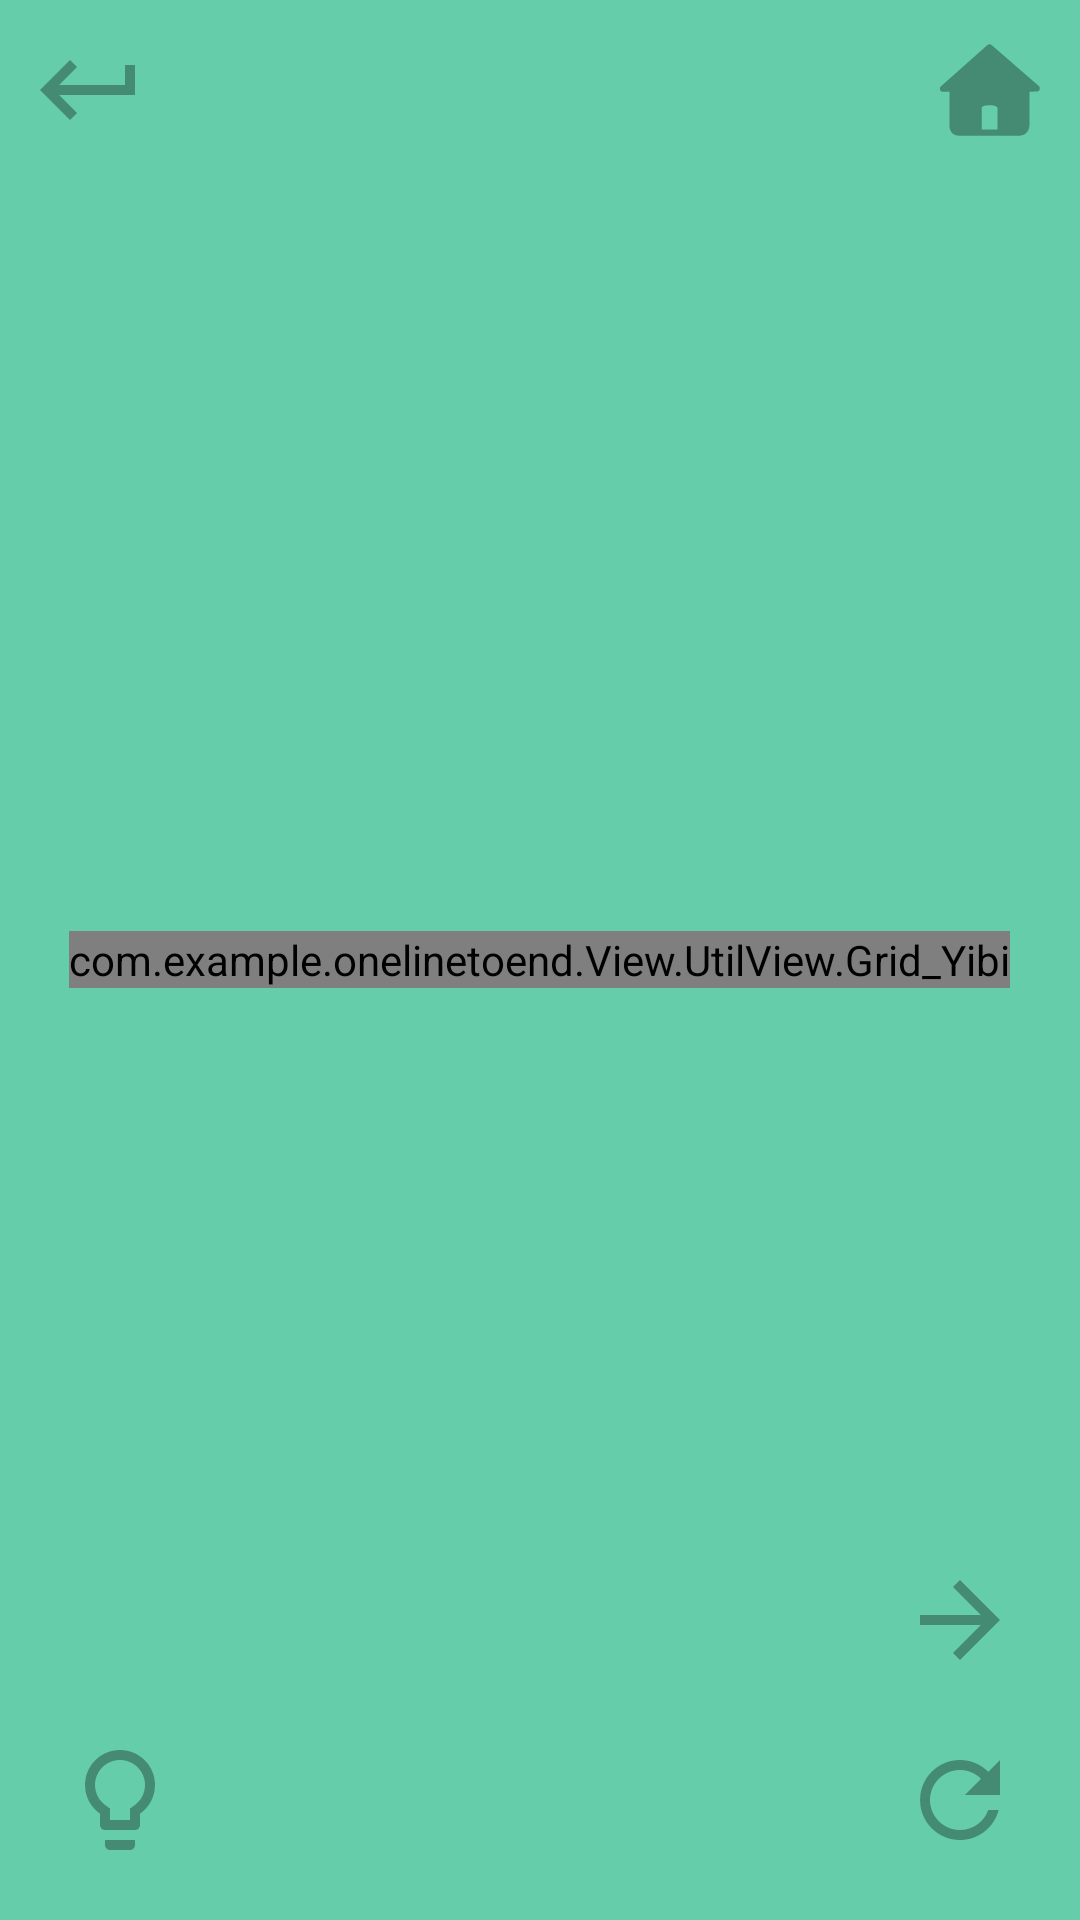

Locate icon controls on the screen. Image size 1080px×1920px, boxes as (x1, y1, x2, y2).
help: (85, 1750, 155, 1850)
home: (940, 44, 1040, 136)
refresh: (920, 1760, 1000, 1840)
return: (40, 60, 135, 120)
right: (920, 1580, 1000, 1660)
